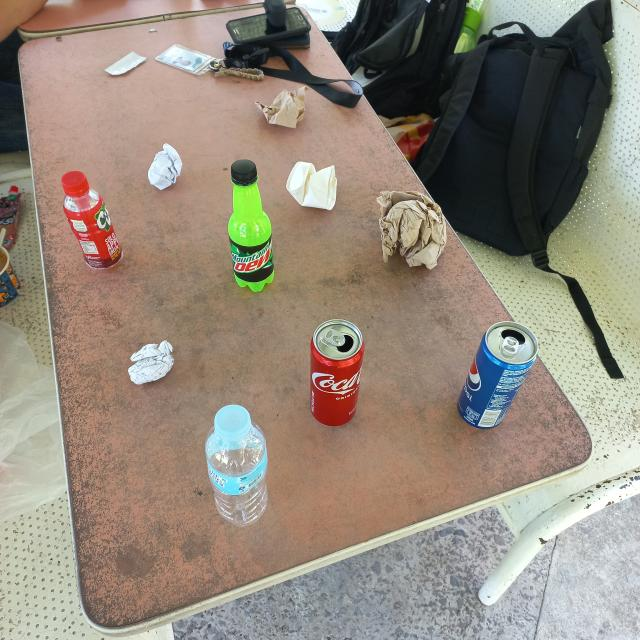Anorganik: (452, 316, 542, 435), (201, 400, 273, 531), (224, 154, 280, 297), (57, 167, 128, 277), (306, 314, 368, 430)
Organik: (369, 183, 453, 277), (248, 80, 318, 134), (280, 156, 342, 216), (123, 335, 179, 388), (141, 138, 186, 194)
